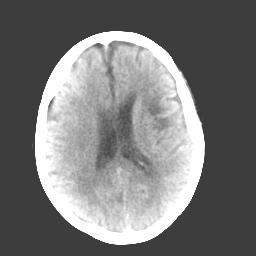ischemic: (68, 170, 91, 192)
